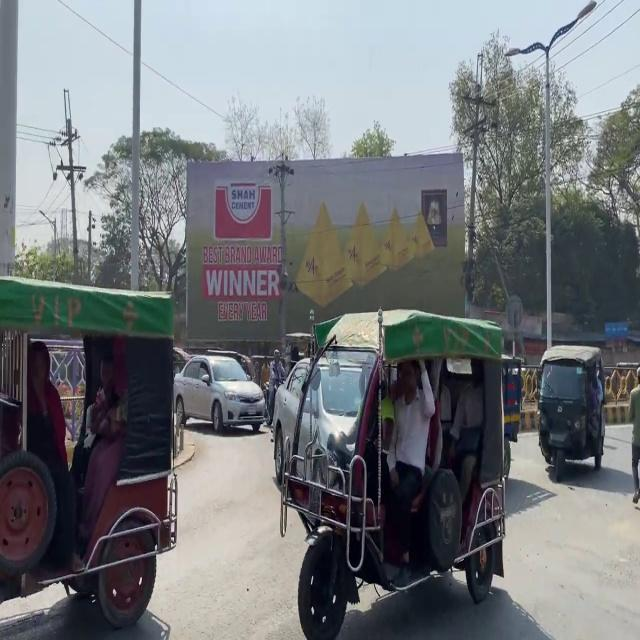Construction-barrier: (0, 583, 74, 637), (0, 605, 48, 635), (170, 423, 195, 472), (602, 401, 631, 425)
Garbage-bin: (380, 358, 436, 566), (73, 354, 127, 559), (627, 366, 639, 503)
Light-pole: (129, 0, 142, 290)
Traffic-cone: (262, 304, 515, 636), (0, 274, 180, 629), (528, 338, 618, 486)
